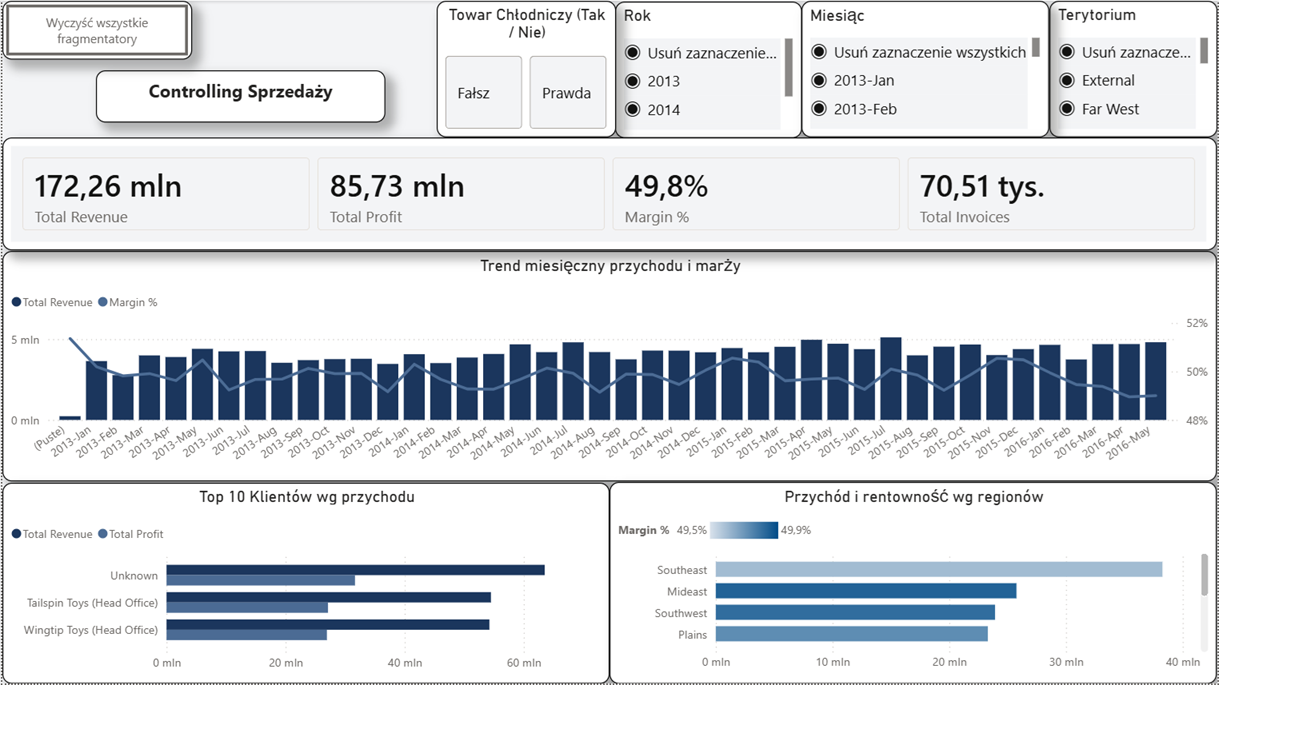

The dashboard page shown, as its layout file describes it:
{"tool":"powerbi","page":{"name":"\t\tControlling Sprzedaży","canvas":[1280,720],"ordinal":0},"visuals":[{"type":"listSlicer","title":"Rok","fields":{"Values":["Dim_Date.Calendar Year"]},"box":[640.7,0,196.6,144.5],"z":0},{"type":"listSlicer","fields":{"Values":["Dim_City.Sales Territory"]},"box":[1103.4,0,176.6,144.5],"z":1000},{"type":"listSlicer","title":"Miesiąc","fields":{"Values":["Dim_Date.Calendar Month Label"]},"box":[842.6,0,260.8,144.5],"z":2000},{"type":"textbox","box":[99,73,305,55.2],"z":3000},{"type":"lineStackedColumnComboChart","title":"Trend miesięczny przychodu i marży","fields":{"Category":["Dim_Date.Calendar Month Label"],"Y":["_Measures.Total Revenue"],"Y2":["_Measures.Margin %"]},"box":[0,263.5,1280,243.4],"z":4000},{"type":"clusteredBarChart","title":"Top 10 Klientów wg przychodu","fields":{"Category":["Dim_Customer.Customer"],"Y":["_Measures.Total Revenue","_Measures.Total Profit"]},"box":[22,508,618.1,212.5],"z":5000},{"type":"clusteredBarChart","title":"Przychód i rentowność wg regionów","fields":{"Category":["Dim_City.Sales Territory"],"Y":["_Measures.Total Revenue"]},"box":[640.1,508,640.1,212.5],"z":6000},{"type":"advancedSlicerVisual","title":"Towar Chłodniczy (Tak / Nie)","fields":{"Values":["Dim_StockItem.Is Chiller Stock"]},"box":[449.4,0,188.6,144.5],"z":7000},{"type":"cardVisual","fields":{"Data":["_Measures.Total Revenue","_Measures.Total Profit","_Measures.Margin %","_Measures.Total Invoices"]},"box":[0,144.5,1280,119],"z":8000},{"type":"actionButton","box":[0,0,199.5,61.6],"z":9000}]}

Visuals, with their boxes in screenshot pixels (x1, y1, x2, y2), scaled from the page's 1280x720 canvas onto the 1292x733 screenshot:
"Rok" listSlicer: {"left": 647, "top": 0, "right": 845, "bottom": 147}
listSlicer - Dim_City.Sales Territory: {"left": 1114, "top": 0, "right": 1291, "bottom": 147}
"Miesiąc" listSlicer: {"left": 850, "top": 0, "right": 1114, "bottom": 147}
textbox: {"left": 100, "top": 74, "right": 408, "bottom": 131}
"Trend miesięczny przychodu i marży" lineStackedColumnComboChart: {"left": 0, "top": 268, "right": 1291, "bottom": 516}
"Top 10 Klientów wg przychodu" clusteredBarChart: {"left": 22, "top": 517, "right": 646, "bottom": 732}
"Przychód i rentowność wg regionów" clusteredBarChart: {"left": 646, "top": 517, "right": 1291, "bottom": 732}
"Towar Chłodniczy (Tak / Nie)" advancedSlicerVisual: {"left": 454, "top": 0, "right": 644, "bottom": 147}
cardVisual - _Measures.Total Revenue x _Measures.Total Profit: {"left": 0, "top": 147, "right": 1291, "bottom": 268}
actionButton: {"left": 0, "top": 0, "right": 201, "bottom": 63}
